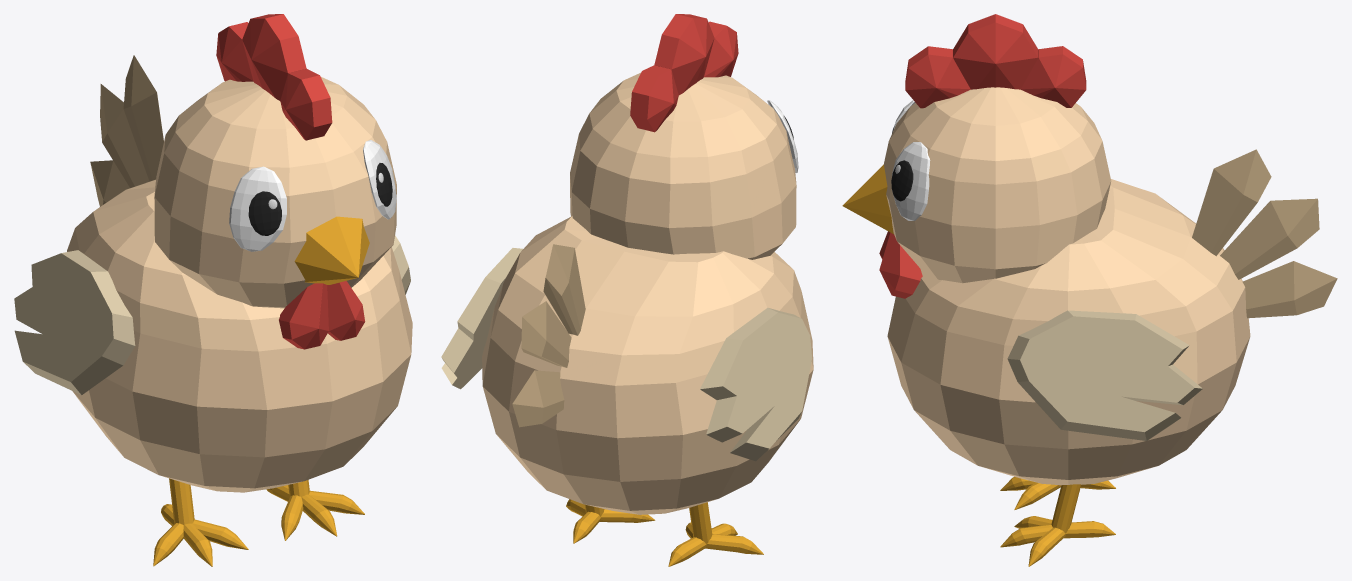
Rendered from Hen.fbx.
3 views of the same model, side by side, from view 1: azimuth 30°, elevation 25°; view 2: azimuth 150°, elevation 25°; view 3: azimuth 270°, elevation 25° (orthographic). The views are drawn at different scales.
Visible parts, largest first — view 1: Body, Head, Wing, Comb, Tail, Legs, Chin, Eyes, Beak, Eye ball black; view 2: Body, Head, Wing, Tail, Comb, Legs; view 3: Body, Head, Wing, Tail, Comb, Legs, Eyes, Chin, Beak, Eye ball black.
Boxes of the visible parts, x1,y1,x2,y2 form: Body: (67, 179, 412, 492); Head: (154, 77, 396, 308); Wing: (14, 235, 410, 395); Comb: (216, 14, 332, 140); Tail: (90, 55, 163, 206); Legs: (153, 478, 364, 566); Chin: (279, 281, 365, 349); Eyes: (229, 140, 396, 251); Beak: (294, 216, 369, 284); Eye ball black: (248, 163, 392, 235); Body: (482, 216, 813, 514); Head: (570, 72, 796, 259); Wing: (441, 248, 812, 461); Tail: (512, 244, 585, 427); Comb: (630, 14, 738, 132); Legs: (566, 499, 763, 566); Body: (887, 179, 1250, 485); Head: (884, 87, 1111, 283); Wing: (1007, 310, 1202, 440); Tail: (1192, 149, 1337, 318); Comb: (905, 14, 1086, 108); Legs: (1000, 476, 1115, 566); Eyes: (892, 100, 930, 220); Chin: (879, 231, 922, 298); Beak: (842, 164, 893, 234); Eye ball black: (891, 125, 913, 201).
Bounding box in the file's own units: 177 × 265 × 238.
